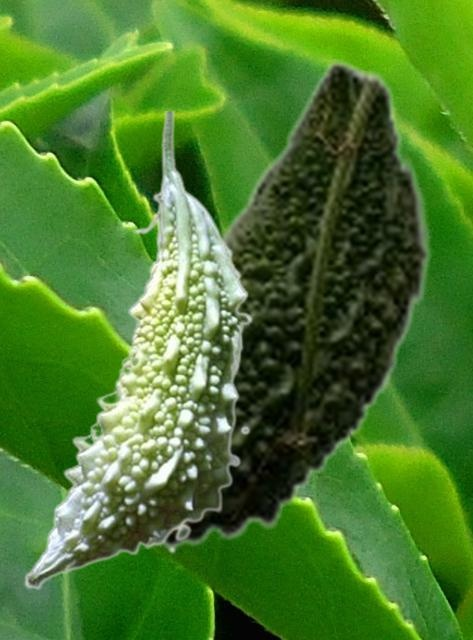ampalaya: (106, 59, 432, 549), (23, 111, 252, 589)
